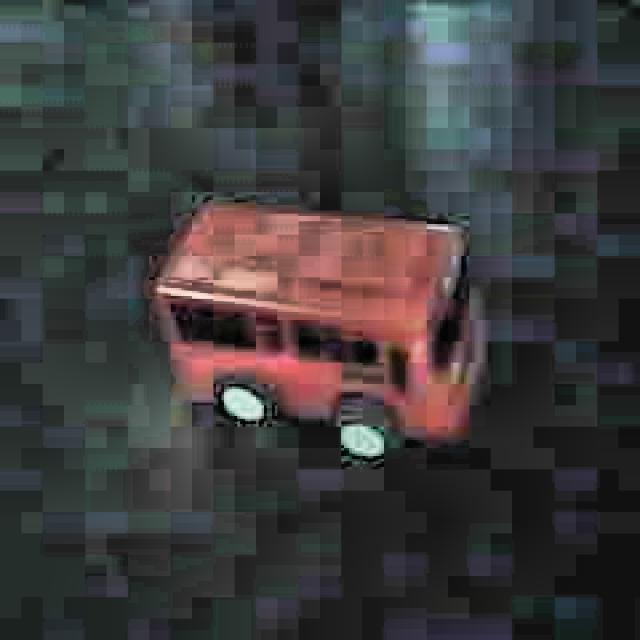bus: (139, 169, 501, 481)
